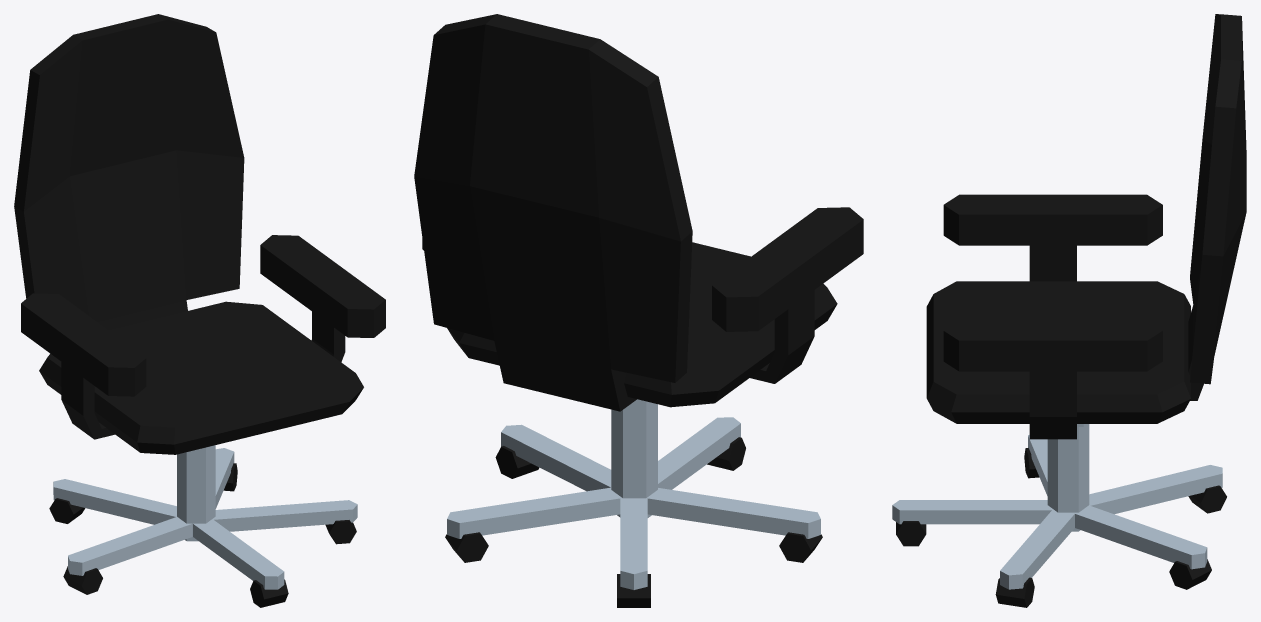
Rendered from chair-2.fbx.
The picture shows the model from 3 angles, left to right: view 1: azimuth 30°, elevation 25°; view 2: azimuth 150°, elevation 25°; view 3: azimuth 270°, elevation 25°; orthographic projection. The views are drawn at different scales.
Visible parts, largest first — view 1: chair-2; view 2: chair-2; view 3: chair-2.
Part boxes in pixels (x1,y1,x2,y2): chair-2: (14, 14, 385, 607); chair-2: (414, 14, 863, 607); chair-2: (892, 14, 1246, 607).
Size of the model in its own units: 1.08 by 1.72 by 1.1.
1 material, 1 textured.
